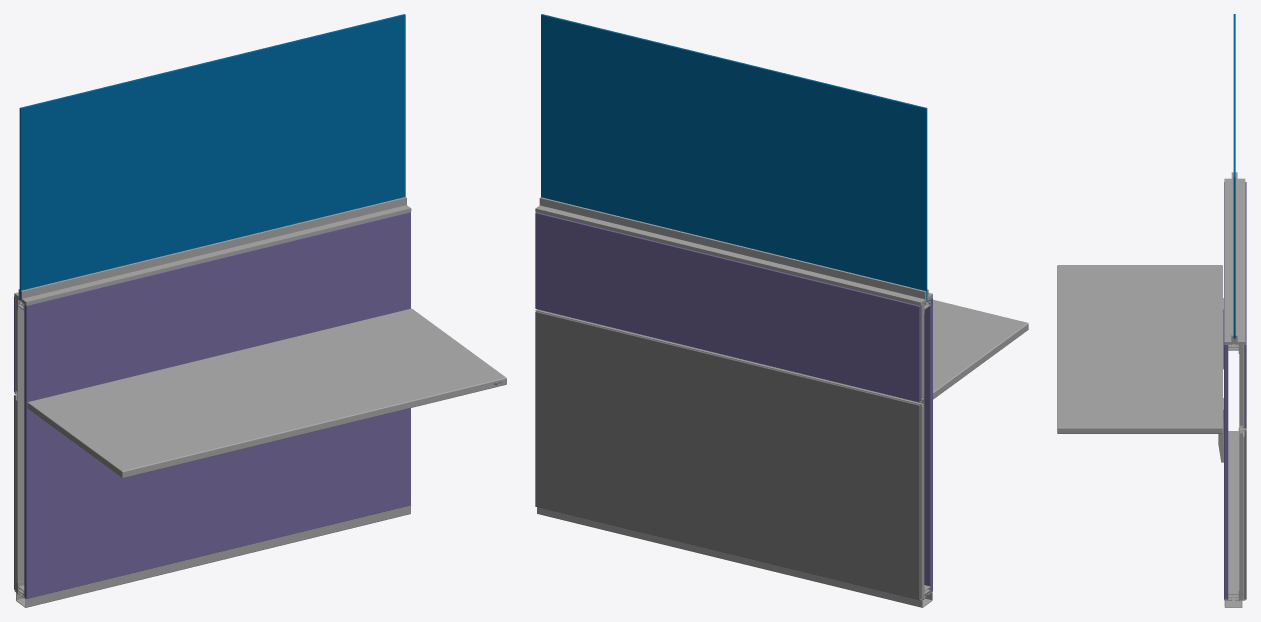
The model's file is Firstline_Counter_bar_FINAL.fbx.
The picture shows the model from 3 angles, left to right: view 1: azimuth 30°, elevation 25°; view 2: azimuth 150°, elevation 25°; view 3: azimuth 270°, elevation 25°; orthographic projection. The views are drawn at different scales.
Visible parts, largest first — view 1: back_mesh, szyba_mesh, DESKTOP_MESH, cos2:polySurface1, cos1:polySurface1, cos:polySurface1; view 2: DREWNO2_MESH1, szyba_mesh, DREWNO1_MESH, cos2:polySurface1, DESKTOP_MESH, cos1:polySurface1, cos:polySurface1, back_mesh; view 3: DESKTOP_MESH, cos1:polySurface1, cos2:polySurface1, back_mesh, szyba_mesh, DREWNO1_MESH, DREWNO2_MESH1.
Part boxes in pixels (x1=…): back_mesh: x1=24, y1=212, x2=410, y2=598; szyba_mesh: x1=19, y1=14, x2=405, y2=300; DESKTOP_MESH: x1=27, y1=308, x2=506, y2=478; cos2:polySurface1: x1=14, y1=197, x2=411, y2=304; cos1:polySurface1: x1=14, y1=211, x2=502, y2=599; cos:polySurface1: x1=16, y1=506, x2=410, y2=607; DREWNO2_MESH1: x1=535, y1=311, x2=920, y2=600; szyba_mesh: x1=541, y1=14, x2=927, y2=300; DREWNO1_MESH: x1=535, y1=212, x2=920, y2=402; cos2:polySurface1: x1=535, y1=197, x2=932, y2=305; DESKTOP_MESH: x1=933, y1=299, x2=1028, y2=399; cos1:polySurface1: x1=535, y1=211, x2=932, y2=600; cos:polySurface1: x1=537, y1=507, x2=932, y2=607; back_mesh: x1=924, y1=297, x2=932, y2=592; DESKTOP_MESH: x1=1057, y1=265, x2=1222, y2=433; cos1:polySurface1: x1=1218, y1=298, x2=1245, y2=601; cos2:polySurface1: x1=1224, y1=172, x2=1245, y2=344; back_mesh: x1=1224, y1=182, x2=1228, y2=599; szyba_mesh: x1=1233, y1=14, x2=1235, y2=338; DREWNO1_MESH: x1=1244, y1=182, x2=1246, y2=427; DREWNO2_MESH1: x1=1244, y1=428, x2=1246, y2=599.
Bounding box in the file's own units: 140 × 172 × 68.61.
